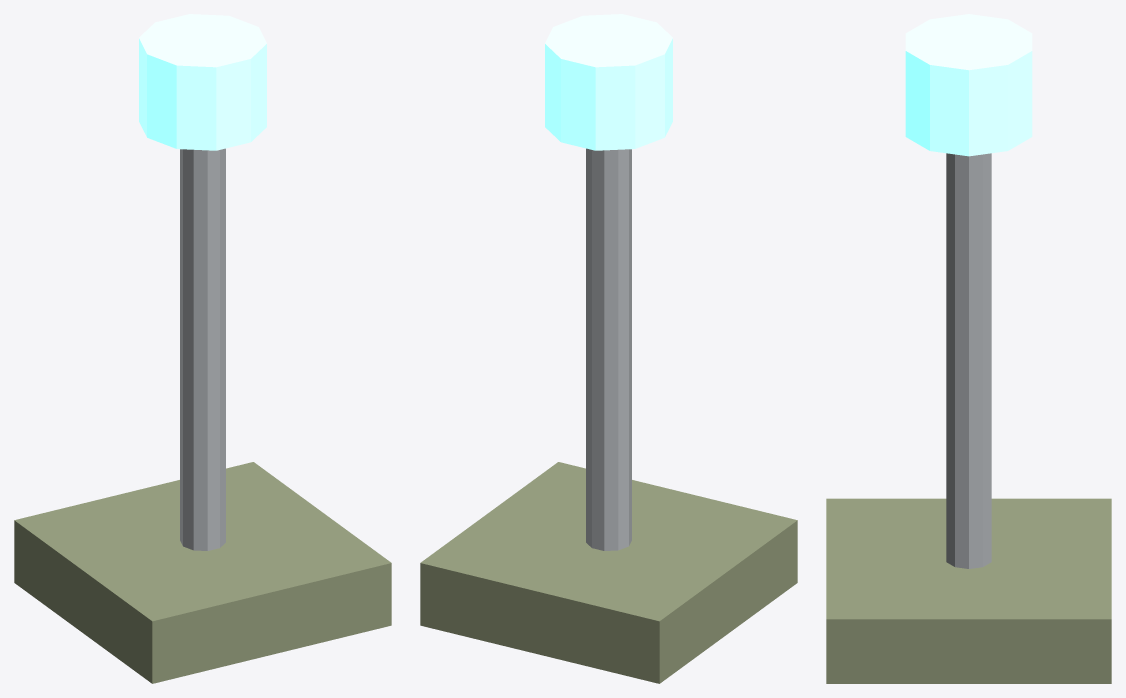
File: mech-hangar-and-battle-frames-field-beacon-b10570d6__26980.glb
The picture shows the model from 3 angles, left to right: view 1: azimuth 30°, elevation 25°; view 2: azimuth 150°, elevation 25°; view 3: azimuth 270°, elevation 25°; orthographic projection. The views are drawn at different scales.
Parts seen in each view (by area): view 1: field-beacon; view 2: field-beacon; view 3: field-beacon.
Boxes of the visible parts, x1,y1,x2,y2 form: field-beacon: (14, 14, 391, 683); field-beacon: (420, 14, 797, 683); field-beacon: (826, 14, 1111, 683).
Bounding box in the file's own units: 0.6 × 1.35 × 0.6.
